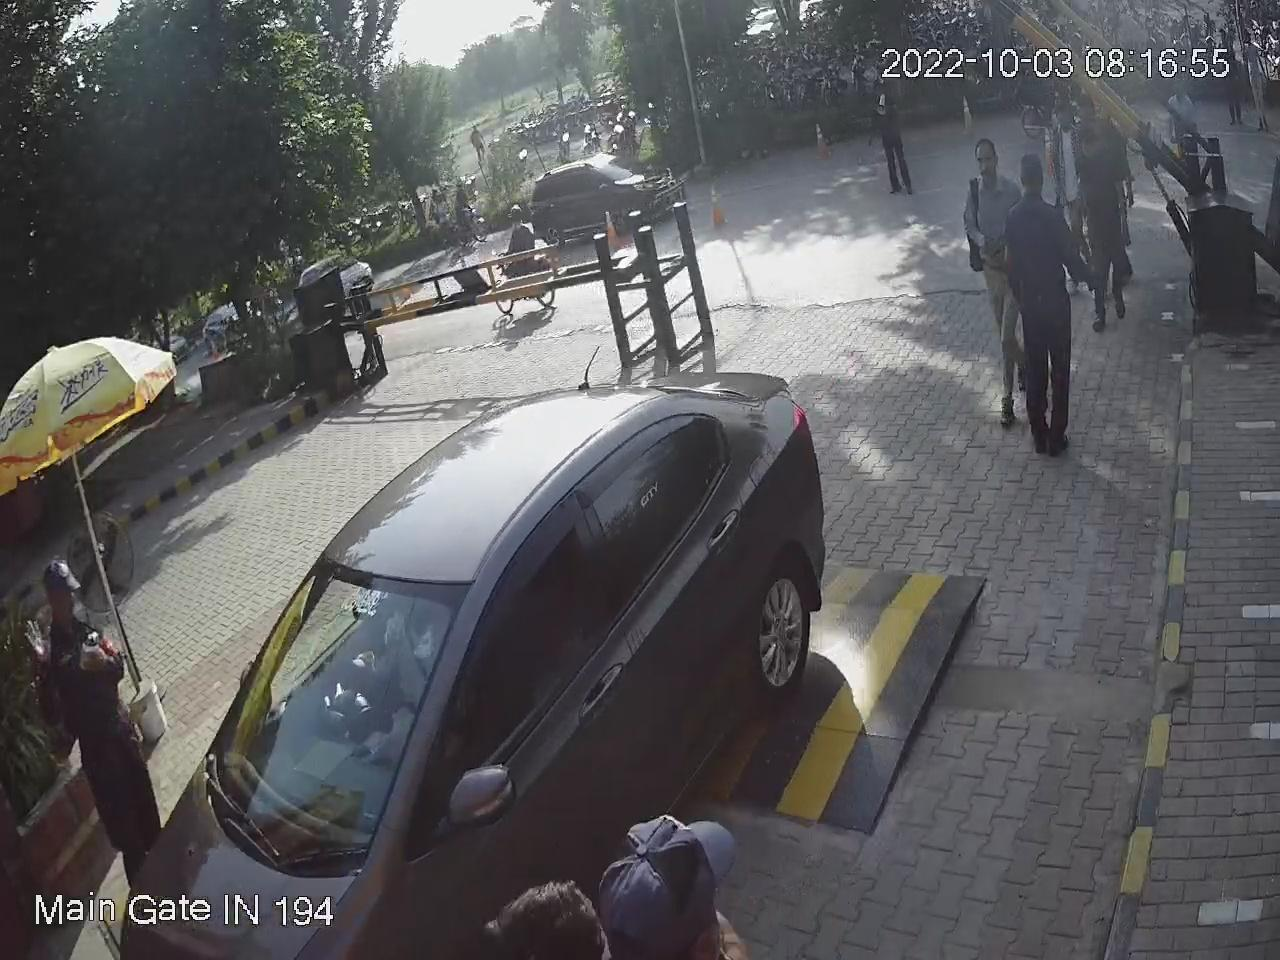windshield: (199, 555, 488, 885)
